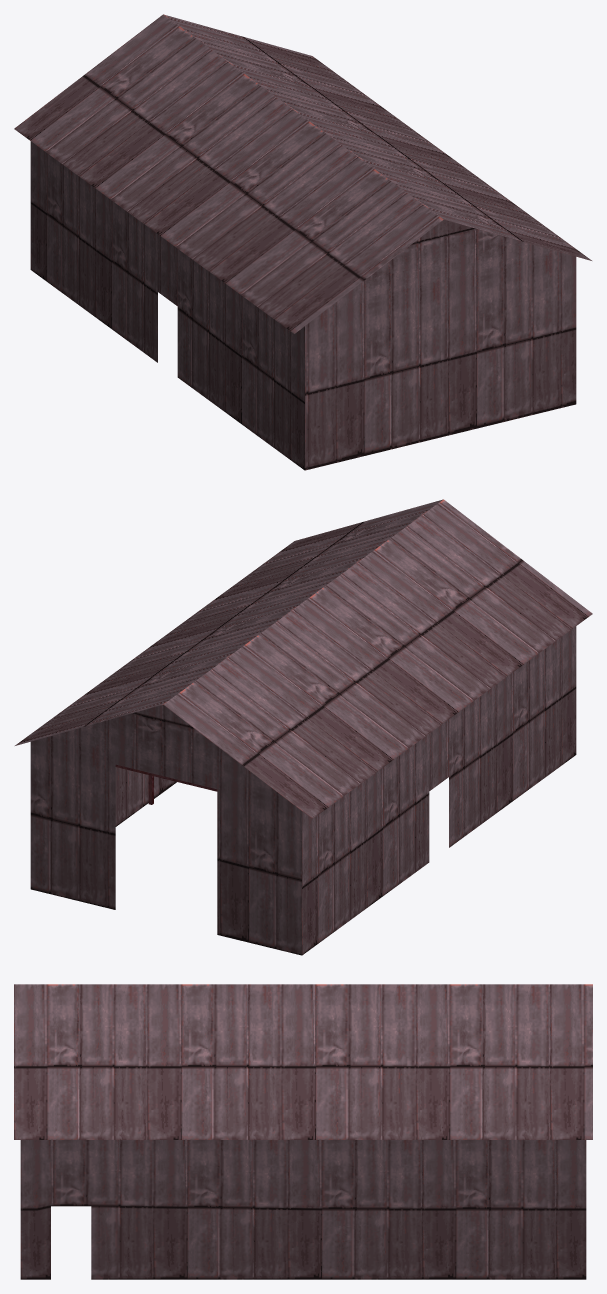
File: shed.glb
3 renders of one model, top to bottom at view 1: azimuth 30°, elevation 25°; view 2: azimuth 150°, elevation 25°; view 3: azimuth 270°, elevation 25°, orthographic. The views are drawn at different scales.
Visible parts, largest first — view 1: Shed A; view 2: Shed A; view 3: Shed A.
Boxes of the visible parts, left/top/right/bottom form: Shed A: left=14, top=14, right=591, bottom=470; Shed A: left=15, top=499, right=592, bottom=955; Shed A: left=14, top=984, right=592, bottom=1279.
Size of the model in its own units: 8.88 by 6.26 by 14.45.
2 materials, 2 textured.
